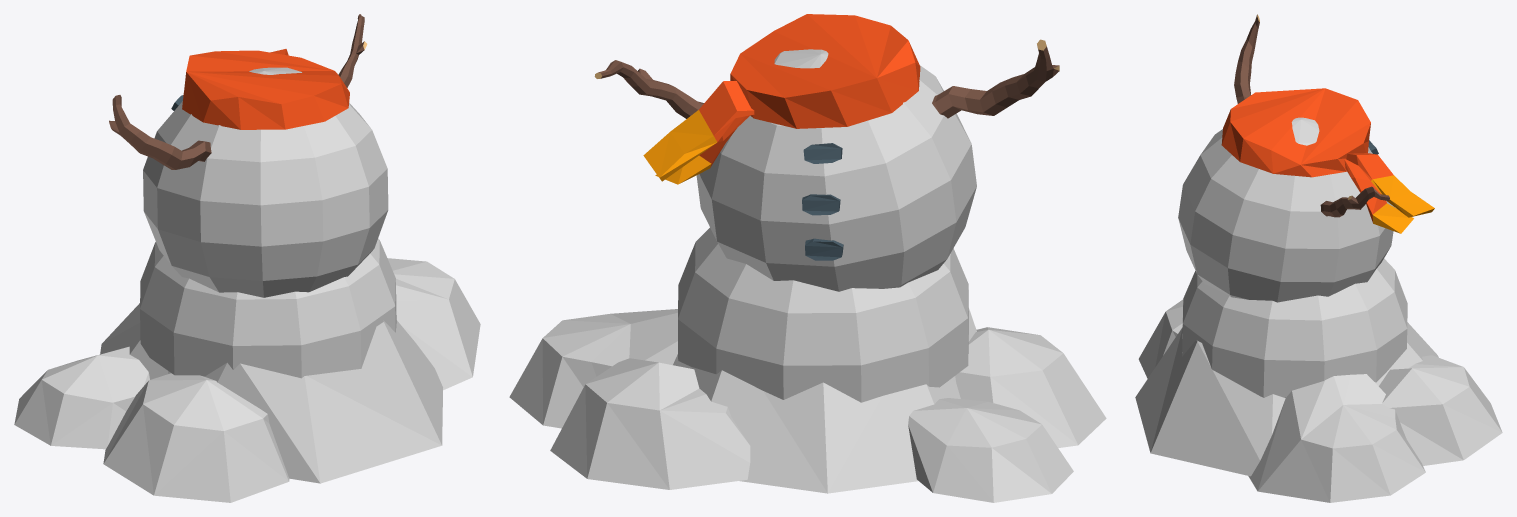
Rendered from body.glb.
3 renders of one model, left to right at view 1: azimuth 30°, elevation 25°; view 2: azimuth 150°, elevation 25°; view 3: azimuth 270°, elevation 25°, orthographic. The views are drawn at different scales.
Visible parts, largest first — view 1: group1820762859, group1452526837, group1379831332, group297861893, group1892130115, group1287764327, group1823866925, group18611084, group921956220; view 2: group1820762859, group1452526837, group1994916755, group1379831332, group1892130115, group1287764327, group1823866925, group297861893, group1104647169, group18611084, group921956220, group1116571812 (+3 smaller); view 3: group1820762859, group1452526837, group1823866925, group1379831332, group1892130115, group1994916755, group1104647169, group297861893, group1116571812, group18611084, group921956220.
Boxes of the visible parts, x1=… form: group1820762859: x1=143, y1=67, x2=388, y2=297; group1452526837: x1=140, y1=238, x2=396, y2=378; group1379831332: x1=100, y1=303, x2=442, y2=483; group297861893: x1=103, y1=373, x2=289, y2=502; group1892130115: x1=182, y1=50, x2=349, y2=129; group1287764327: x1=14, y1=346, x2=149, y2=449; group1823866925: x1=387, y1=258, x2=480, y2=390; group18611084: x1=109, y1=95, x2=211, y2=169; group921956220: x1=338, y1=14, x2=367, y2=87; group1820762859: x1=696, y1=49, x2=976, y2=291; group1452526837: x1=678, y1=228, x2=968, y2=402; group1994916755: x1=550, y1=358, x2=750, y2=489; group1379831332: x1=673, y1=308, x2=976, y2=493; group1892130115: x1=730, y1=14, x2=920, y2=128; group1287764327: x1=908, y1=398, x2=1073, y2=502; group1823866925: x1=509, y1=309, x2=677, y2=428; group297861893: x1=955, y1=327, x2=1106, y2=447; group1104647169: x1=643, y1=81, x2=754, y2=181; group18611084: x1=932, y1=39, x2=1059, y2=118; group921956220: x1=594, y1=60, x2=703, y2=118; group1116571812: x1=655, y1=115, x2=749, y2=184; group1820762859: x1=1178, y1=117, x2=1394, y2=302; group1452526837: x1=1182, y1=258, x2=1407, y2=397; group1823866925: x1=1248, y1=374, x2=1425, y2=502; group1379831332: x1=1135, y1=322, x2=1438, y2=476; group1892130115: x1=1221, y1=88, x2=1370, y2=177; group1994916755: x1=1379, y1=355, x2=1502, y2=465; group1104647169: x1=1346, y1=153, x2=1434, y2=217; group297861893: x1=1138, y1=299, x2=1183, y2=378; group1116571812: x1=1344, y1=159, x2=1413, y2=233; group18611084: x1=1234, y1=14, x2=1259, y2=103; group921956220: x1=1320, y1=186, x2=1389, y2=217.
Bounding box in the file's own units: 1.07 × 0.8236 × 0.8406.
